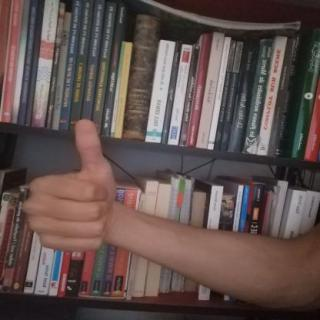ALIF: (11, 109, 122, 262)
